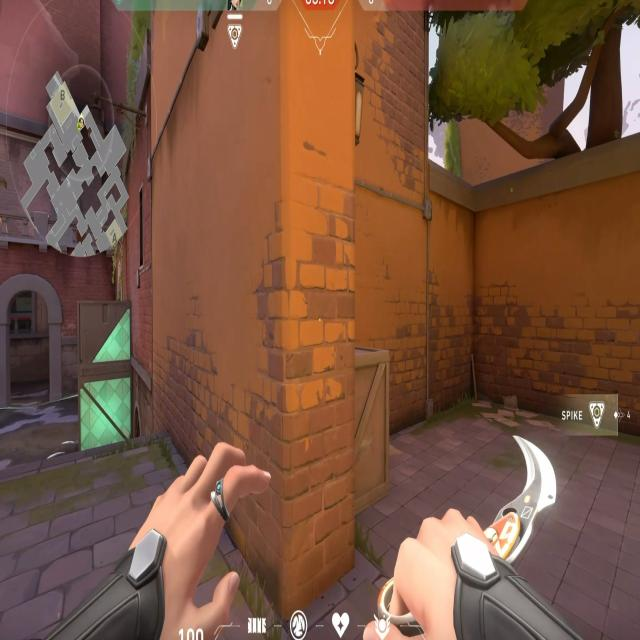B_Boathouse: (0, 273, 63, 407)
